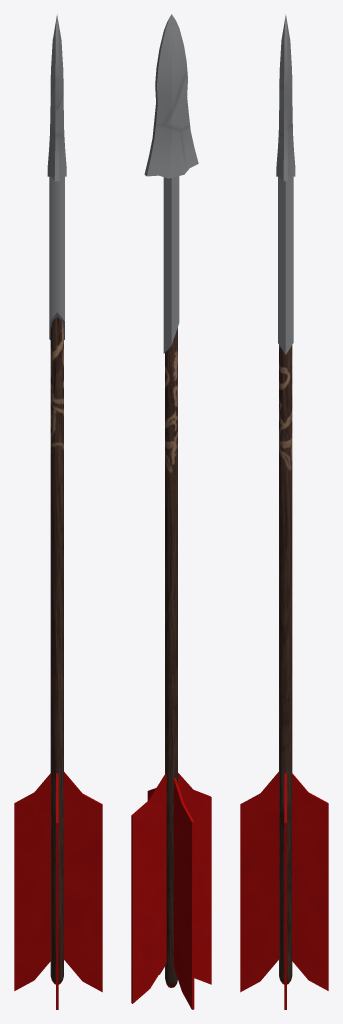
The model's file is Flecha 1.fbx.
3 renders of one model, left to right at view 1: azimuth 90°, elevation 25°; view 2: azimuth 210°, elevation 25°; view 3: azimuth 270°, elevation 25°, orthographic.
Visible parts, largest first — view 1: Flecha; view 2: Flecha; view 3: Flecha.
Part boxes in pixels (box(x1,y1,x2,y2)): Flecha: box(14, 14, 102, 1009); Flecha: box(131, 14, 211, 1009); Flecha: box(240, 14, 328, 1009).
Bounding box in the file's own units: 6.76 × 80.3 × 6.57.
